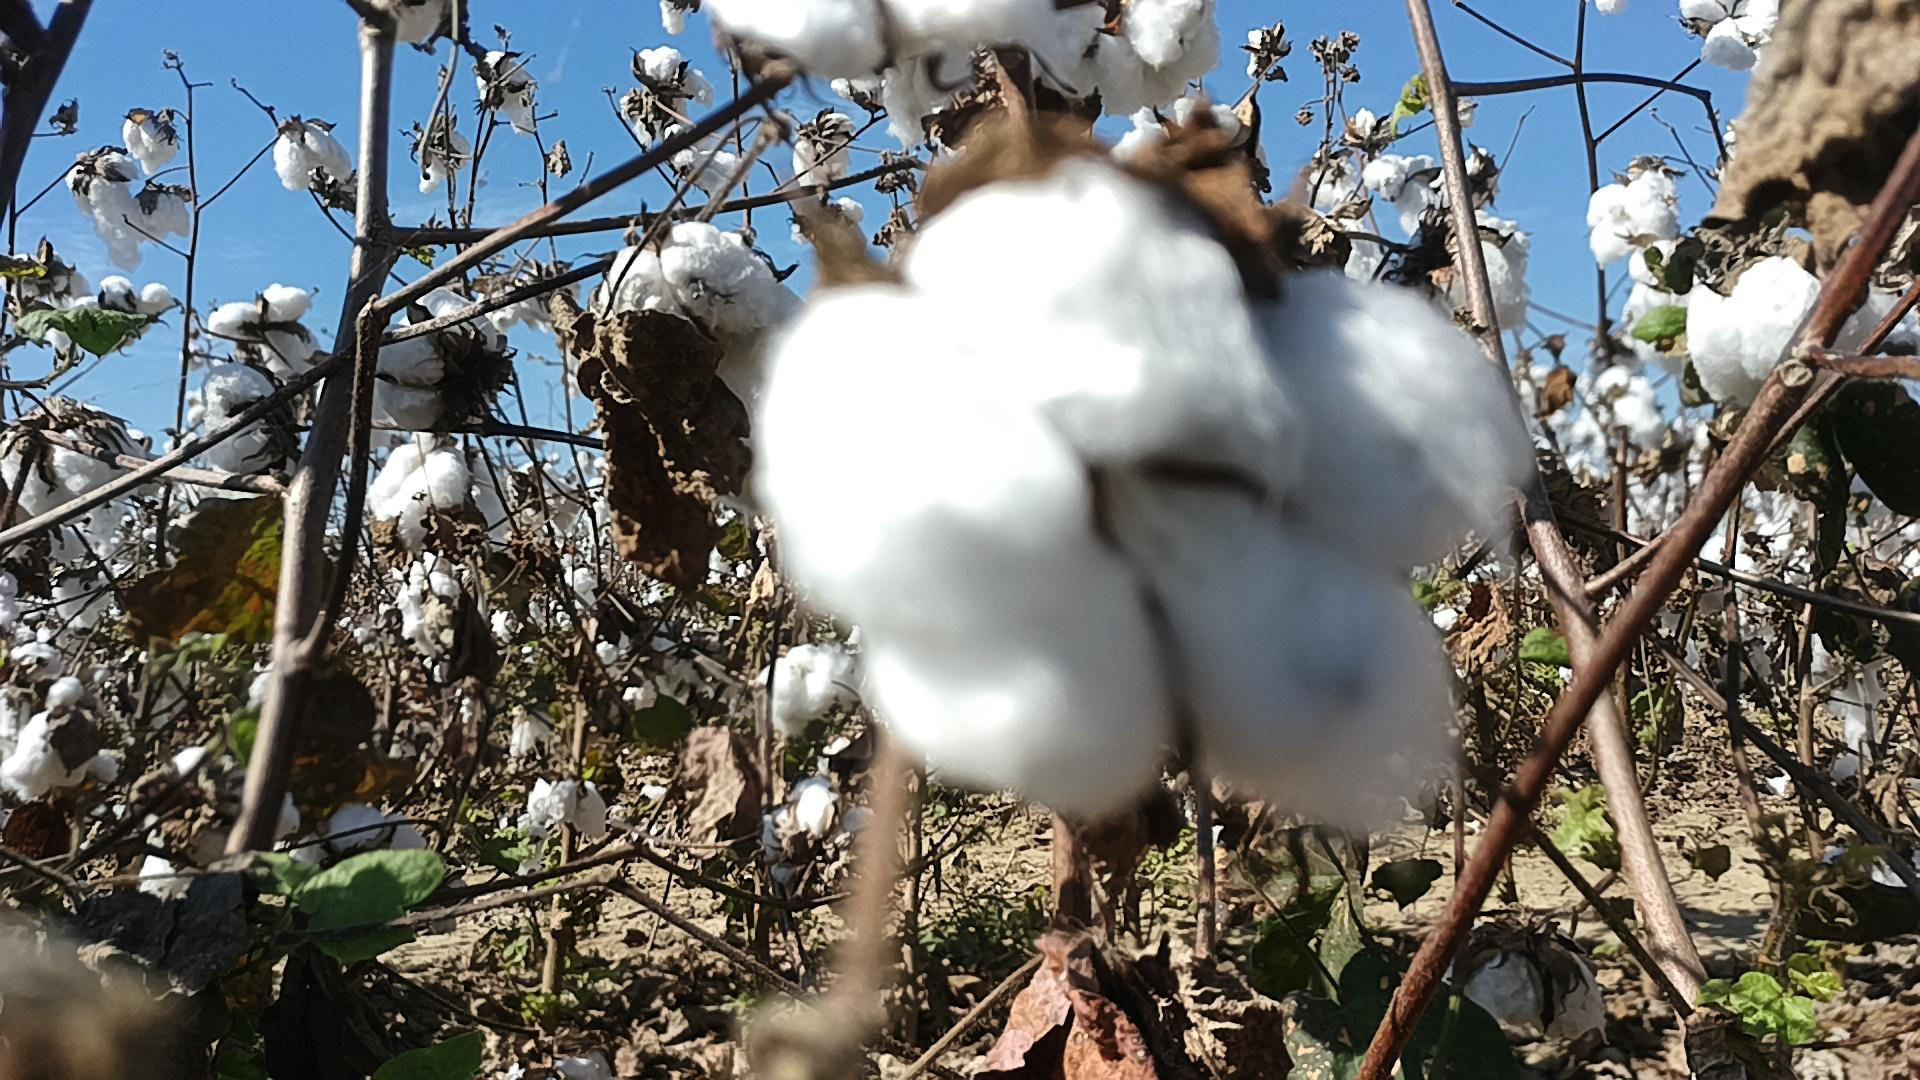cotton_ready: (756, 161, 1535, 845), (700, 0, 1225, 105), (597, 215, 810, 433), (1688, 256, 1920, 398), (1432, 934, 1618, 1060), (0, 406, 156, 537), (372, 289, 510, 435), (376, 435, 514, 568), (0, 670, 128, 804), (1112, 94, 1270, 177), (1437, 208, 1534, 335), (1370, 148, 1498, 237), (280, 787, 426, 858), (193, 369, 290, 473), (620, 41, 717, 144), (1316, 148, 1387, 287), (208, 284, 322, 371), (1626, 237, 1709, 356), (761, 646, 864, 735), (63, 150, 138, 269), (1680, 0, 1788, 69), (1588, 181, 1673, 264), (62, 276, 183, 328), (11, 253, 96, 322), (270, 125, 353, 194), (476, 49, 538, 136), (518, 781, 608, 837), (418, 125, 472, 193), (378, 0, 438, 47)
